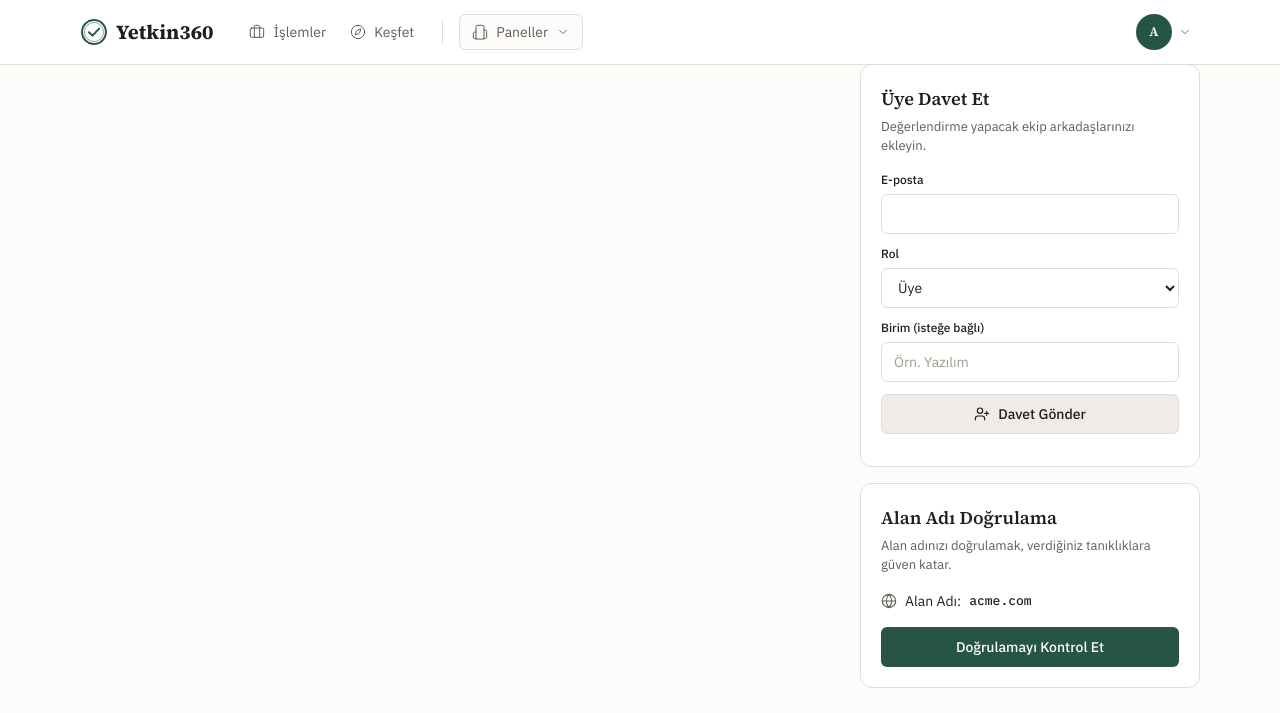
Test: KurulusPanelPage (/kurulus/[id]/panel) › Alan adı doğrulama bölümü › TOO_MANY_REQUESTS → ilgili hata mesajı gösterilir
(page scrolled)
Click the button "Doğrulamayı Kontrol Et" at {"x": 1030, "y": 646}, box [881,626,1179,666]
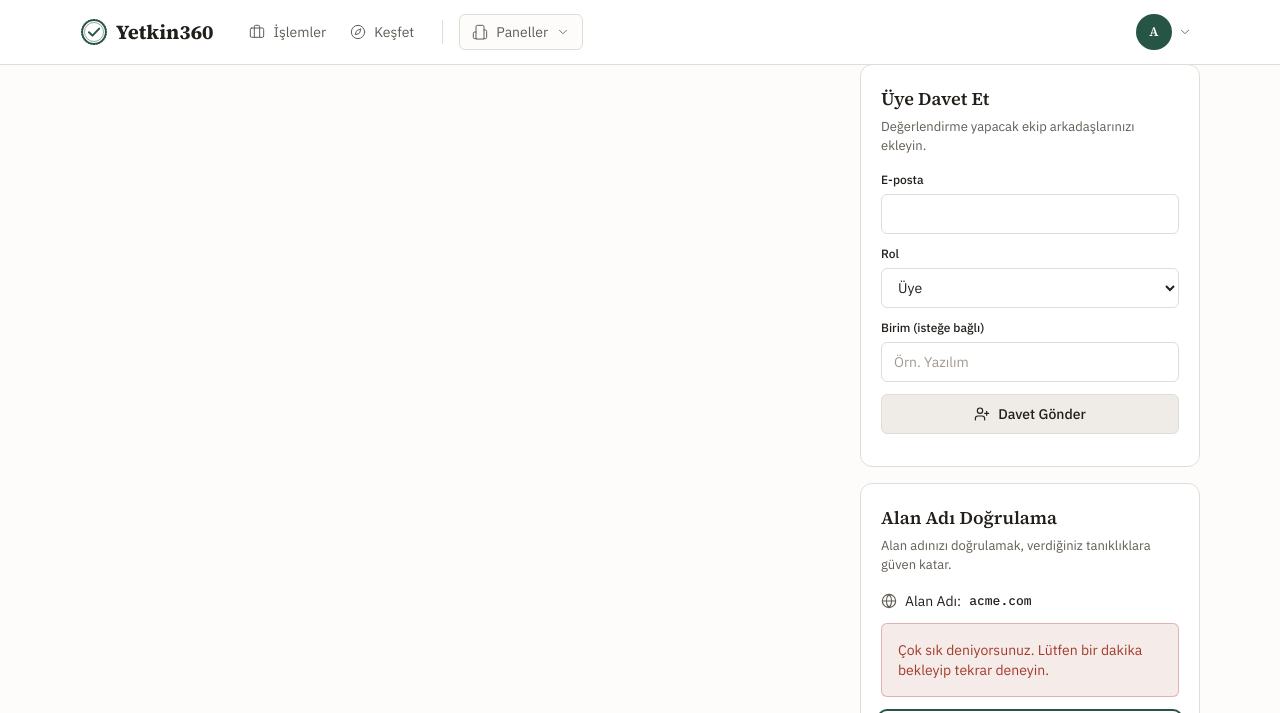
Expected: the text "Çok sık deniyorsunuz. Lütfen bir dakika bekleyip tekrar deneyin." is shown, [881,622,1179,696]
